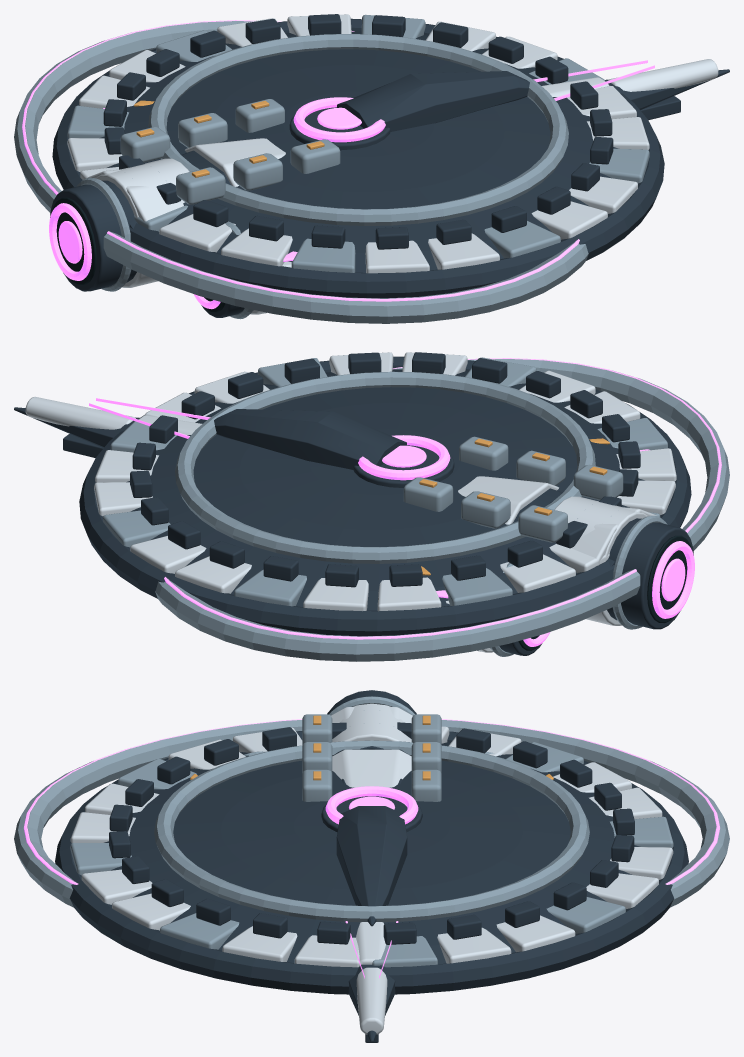
The model's file is ship-16.glb.
3 renders of one model, top to bottom at view 1: azimuth 30°, elevation 25°; view 2: azimuth 150°, elevation 25°; view 3: azimuth 270°, elevation 25°, orthographic.
Visible parts, largest first — view 1: Graphite frame, Machined silver, Ceramic titanium, Ion violet, Carbon insets, Copper contacts; view 2: Graphite frame, Machined silver, Ceramic titanium, Ion violet, Carbon insets, Copper contacts; view 3: Graphite frame, Machined silver, Ceramic titanium, Ion violet, Copper contacts.
Boxes of the visible parts, <box> form: Graphite frame: <box>50,14,729,317</box>; Machined silver: <box>14,14,649,323</box>; Ceramic titanium: <box>67,14,718,314</box>; Ion violet: <box>22,20,654,309</box>; Carbon insets: <box>52,197,225,312</box>; Copper contacts: <box>134,100,324,177</box>; Graphite frame: <box>14,352,693,655</box>; Machined silver: <box>103,357,729,661</box>; Ceramic titanium: <box>25,352,676,652</box>; Ion violet: <box>89,358,721,646</box>; Carbon insets: <box>518,535,691,650</box>; Copper contacts: <box>419,438,609,575</box>; Graphite frame: <box>55,690,688,1042</box>; Machined silver: <box>14,696,729,967</box>; Ceramic titanium: <box>70,703,673,1034</box>; Ion violet: <box>24,719,719,978</box>; Copper contacts: <box>190,715,553,780</box>.
Size of the model in its own units: 5.6 by 1.11 by 5.3.
